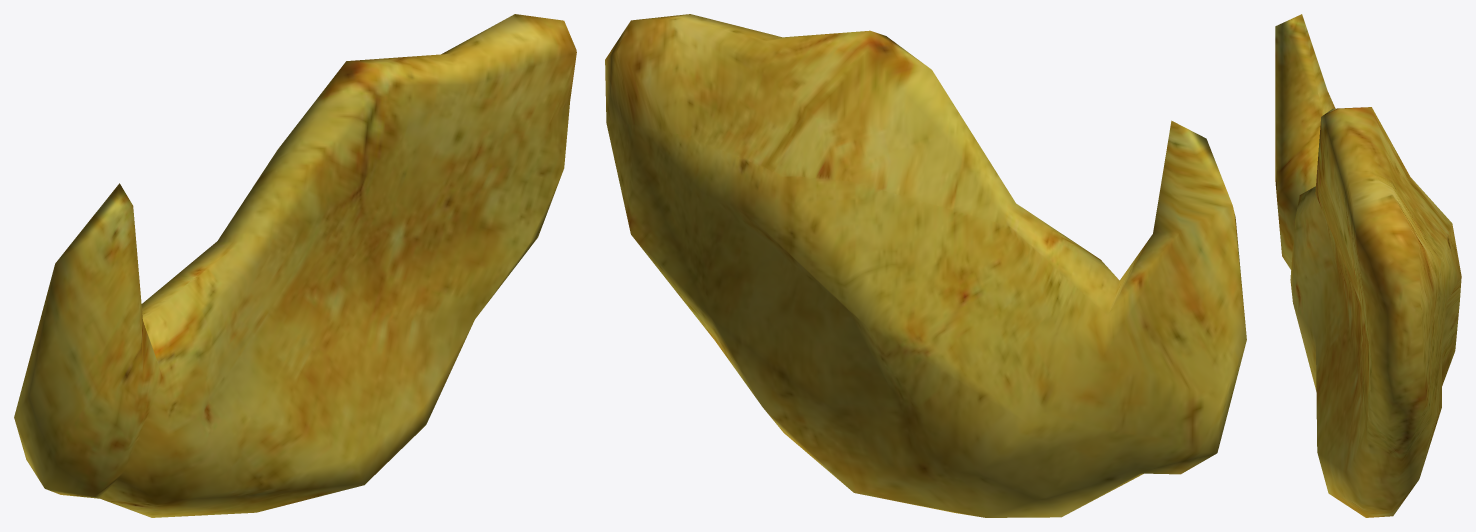
The model's file is R_Arytenoid_Laryngeal_Cartilage.glb.
3 renders of one model, left to right at view 1: azimuth 30°, elevation 25°; view 2: azimuth 150°, elevation 25°; view 3: azimuth 270°, elevation 25°, orthographic. The views are drawn at different scales.
Visible parts, largest first — view 1: R_Arytenoid_Laryngeal_Cartilage; view 2: R_Arytenoid_Laryngeal_Cartilage; view 3: R_Arytenoid_Laryngeal_Cartilage.
Part boxes in pixels (bbox=[...]): R_Arytenoid_Laryngeal_Cartilage: bbox=[14, 14, 576, 517]; R_Arytenoid_Laryngeal_Cartilage: bbox=[605, 14, 1246, 517]; R_Arytenoid_Laryngeal_Cartilage: bbox=[1275, 14, 1461, 517].
Bounding box in the file's own units: 0.0495 × 0.0351 × 0.0142.
Materials: 1 (1 with a texture image).
